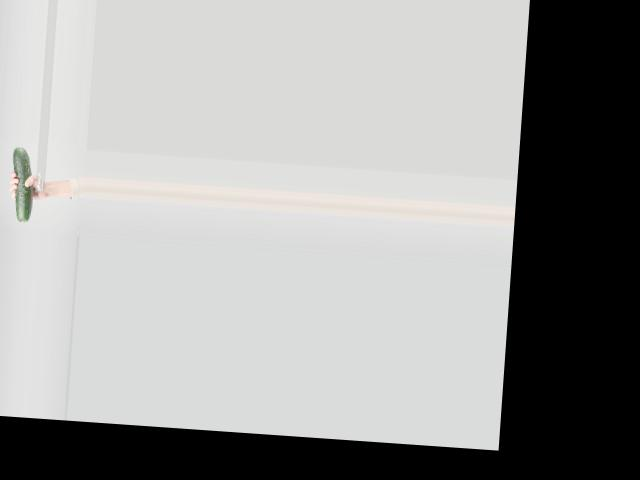cucumber: (8, 146, 36, 220)
